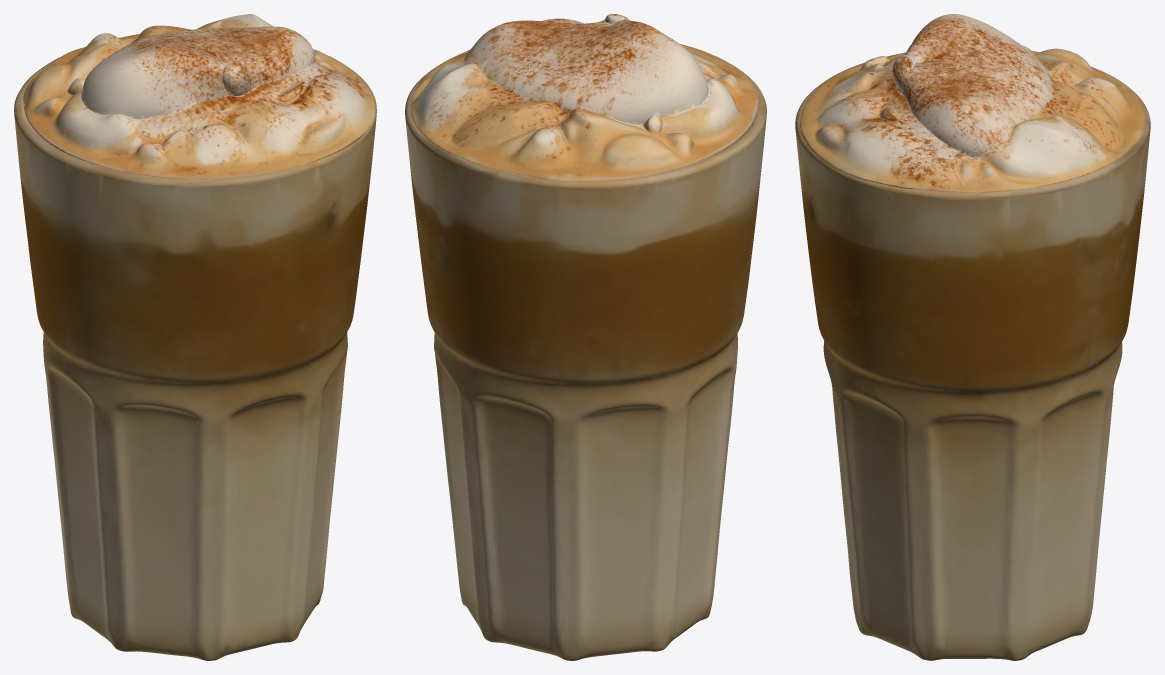
The model's file is cloudtop-latte.glb.
The picture shows the model from 3 angles, left to right: view 1: azimuth 30°, elevation 25°; view 2: azimuth 150°, elevation 25°; view 3: azimuth 270°, elevation 25°; orthographic projection. The views are drawn at different scales.
Bounding box in the file's own units: 1.07 × 1.9 × 1.07.
1 material, 1 textured.
